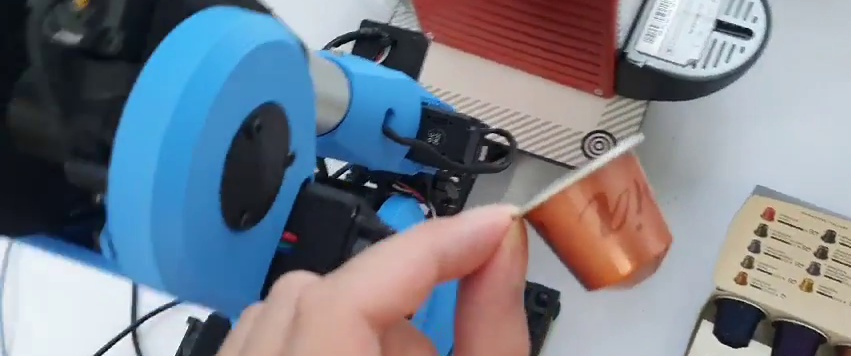capsule_6: (515, 135, 681, 295)
